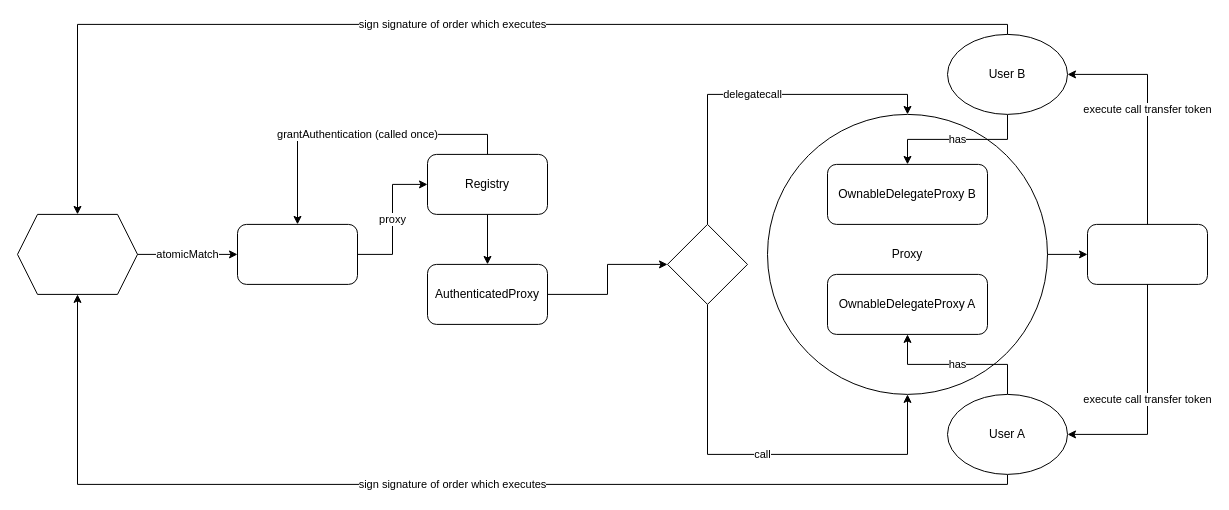
This 1229x510 diagram has some shape labels left out. The centre of each missing label's shape, as x and y in pixels:
"Exchange" belongs at (297,253).
"HowToCall" belongs at (707,263).
"Off-chain" belongs at (77,253).
"StaticMarket" belongs at (1147,253).
